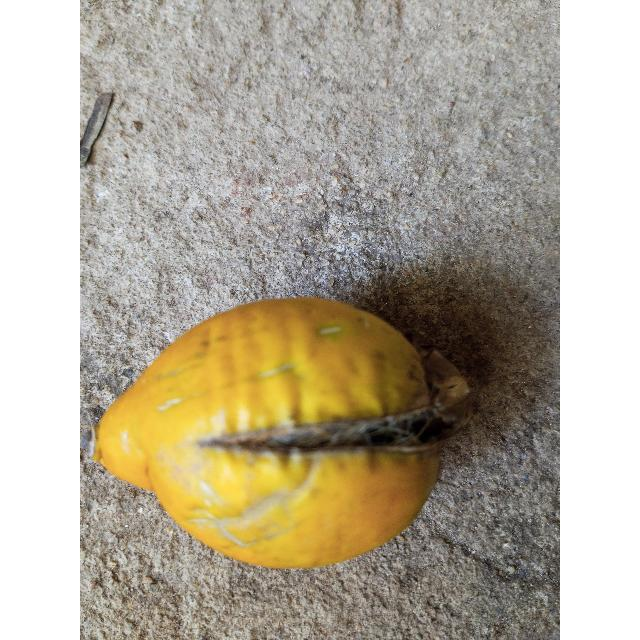damaged: (94, 297, 464, 572)
